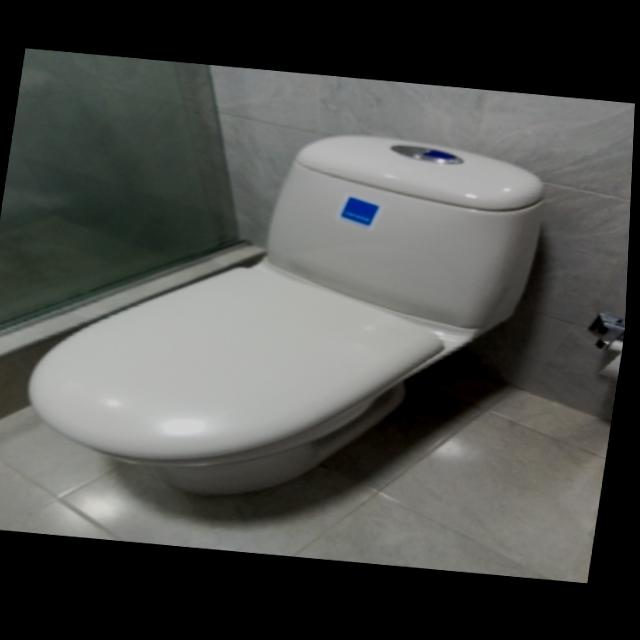toilet: (14, 100, 557, 530)
